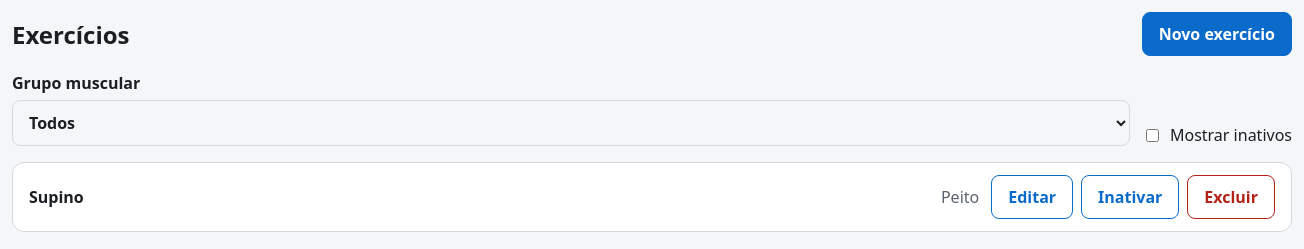
catálogo de exercícios › excluir: o INSTRUTOR confirma e manda o DELETE (ADR 0047)
This screenshot has width=1304, height=249.
Click the button "Excluir": (1231, 197) 1187,175 -> 1275,219
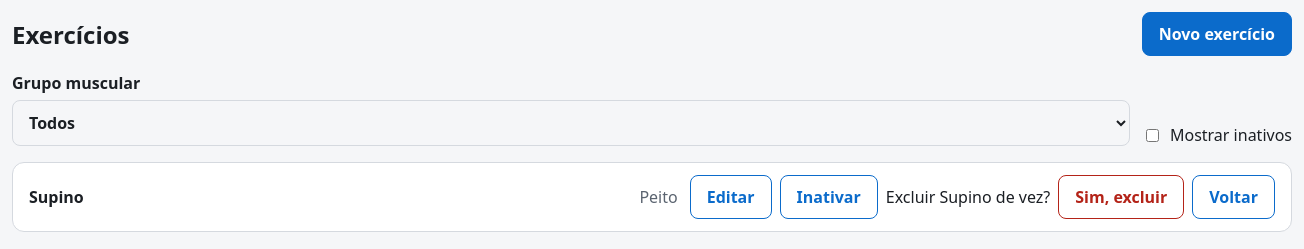
Click the button "Sim, excluir": (1121, 197) 1058,175 -> 1184,219
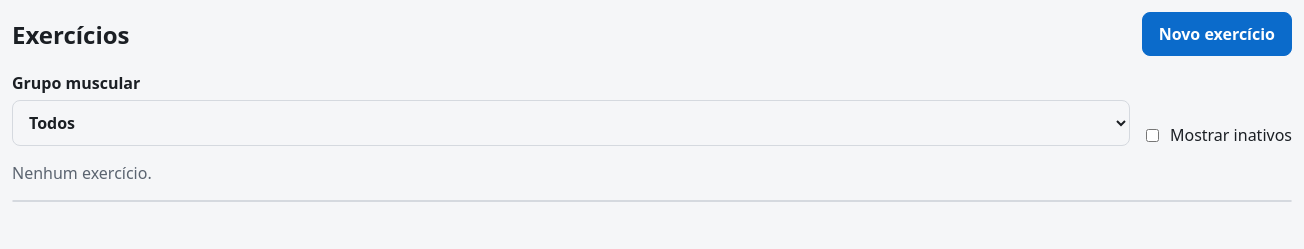
Expected: the text "Nenhum exercício." is shown, 12,162 -> 152,184
